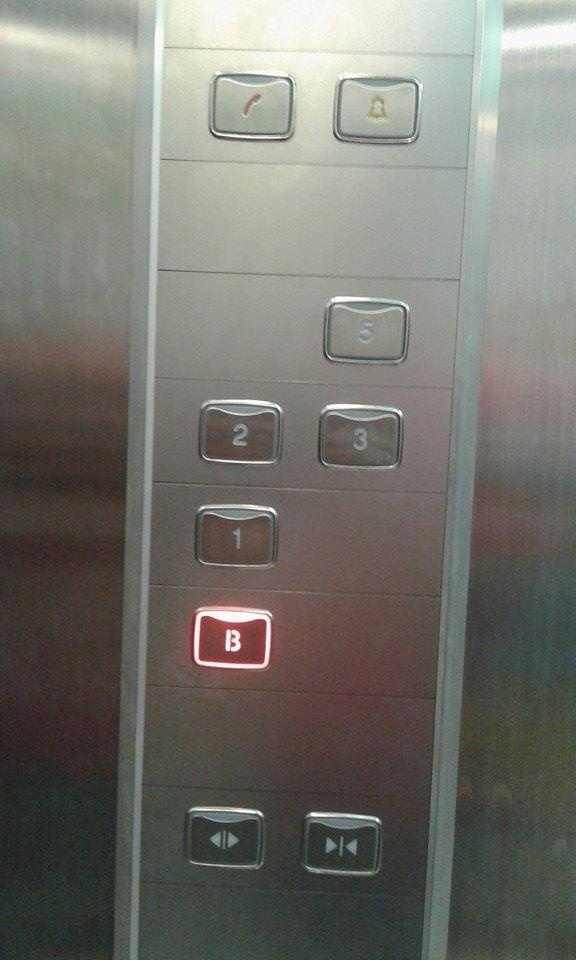1: (194, 506, 279, 570)
2: (200, 398, 282, 466)
3: (318, 403, 404, 470)
5: (321, 294, 413, 364)
B: (192, 605, 274, 670)
alarm: (334, 74, 423, 143)
call: (209, 71, 297, 141)
close: (301, 810, 383, 875)
open: (183, 807, 266, 868)
